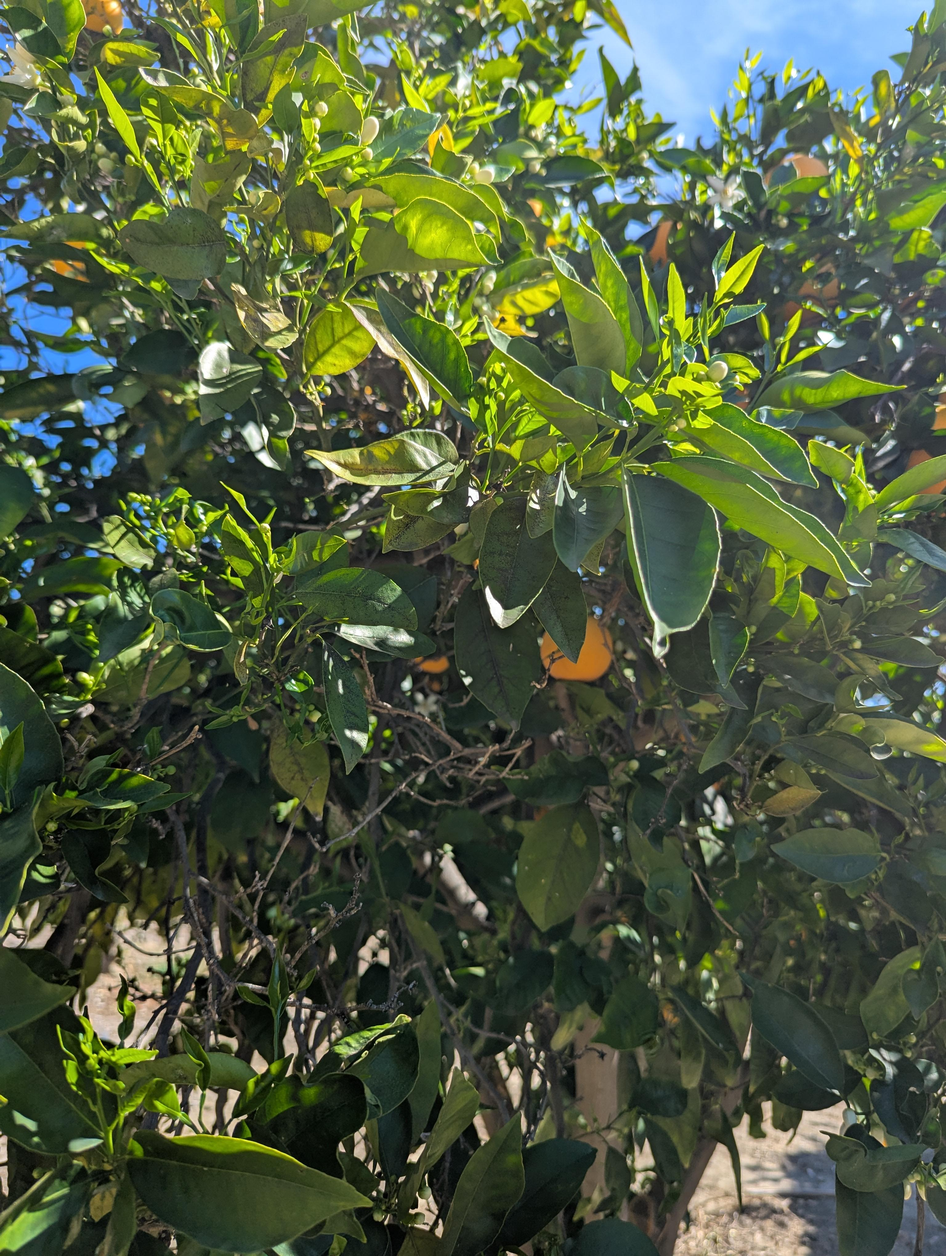orange: (540, 615, 613, 683), (782, 253, 837, 326), (766, 156, 828, 213), (905, 450, 946, 518), (79, 0, 122, 37), (53, 241, 90, 282), (646, 222, 674, 268), (413, 655, 449, 673), (928, 407, 946, 430), (735, 386, 749, 409), (527, 199, 542, 217)
